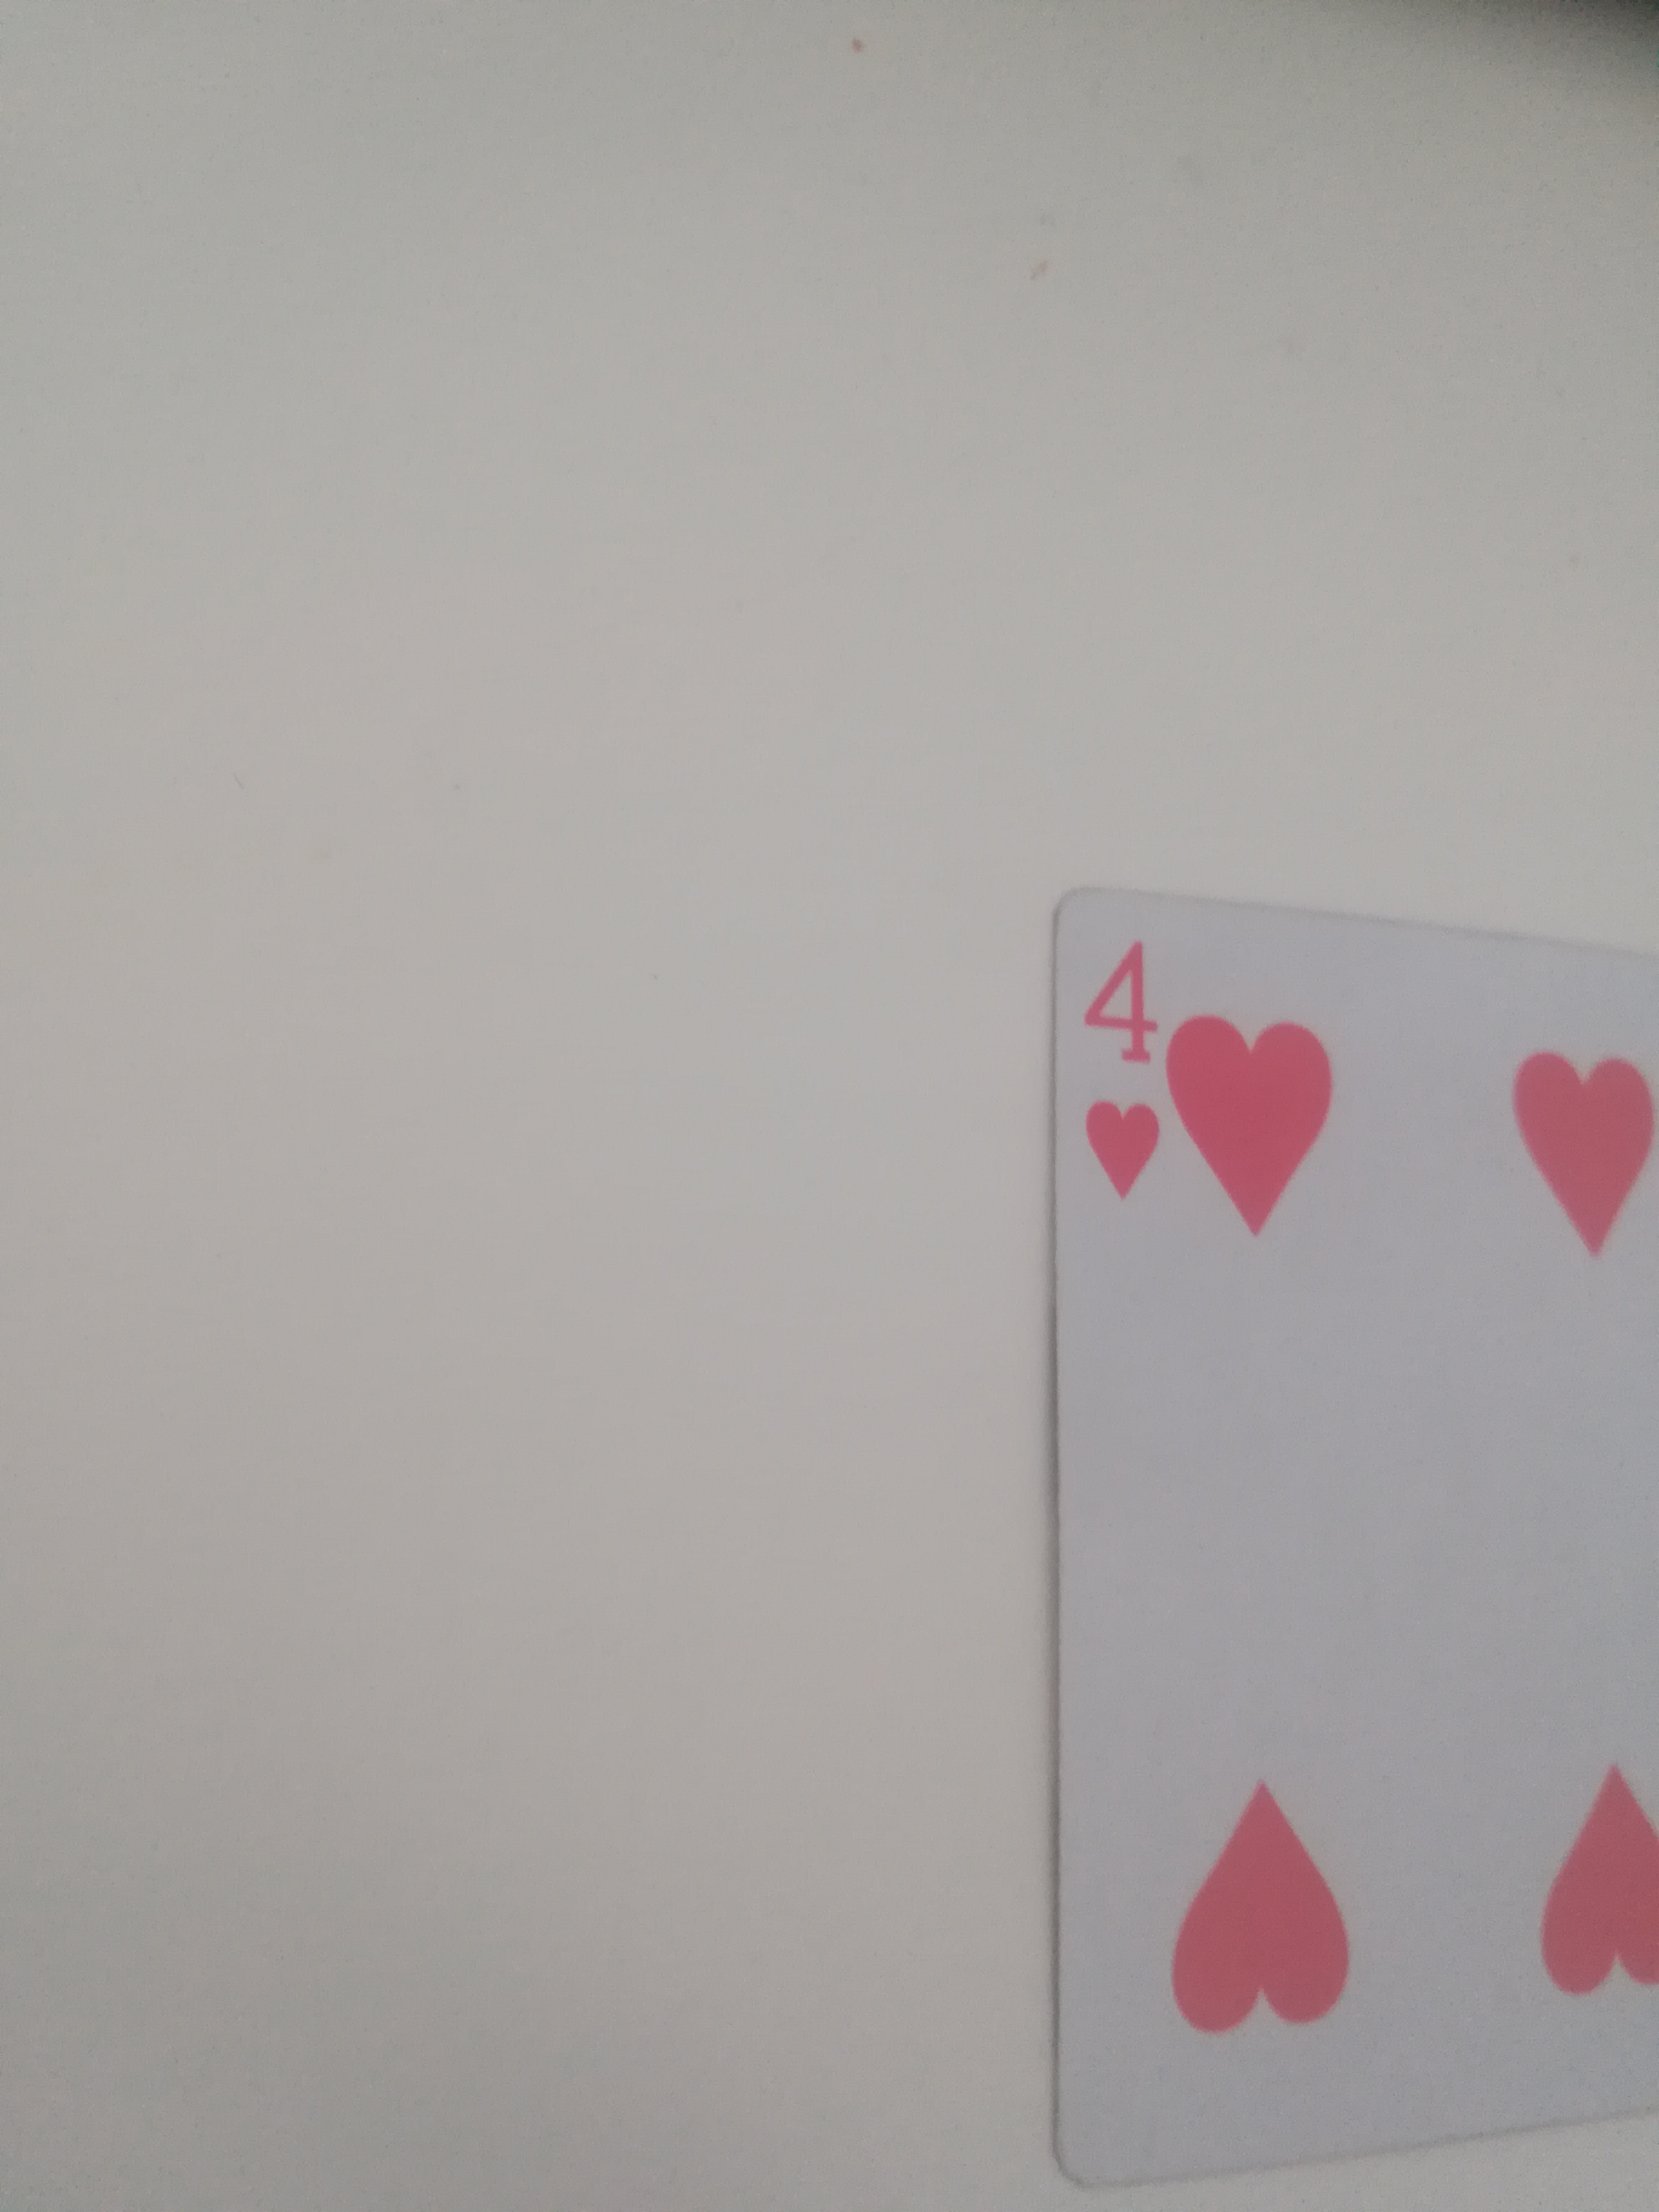4H: (1035, 873, 1659, 2191)
